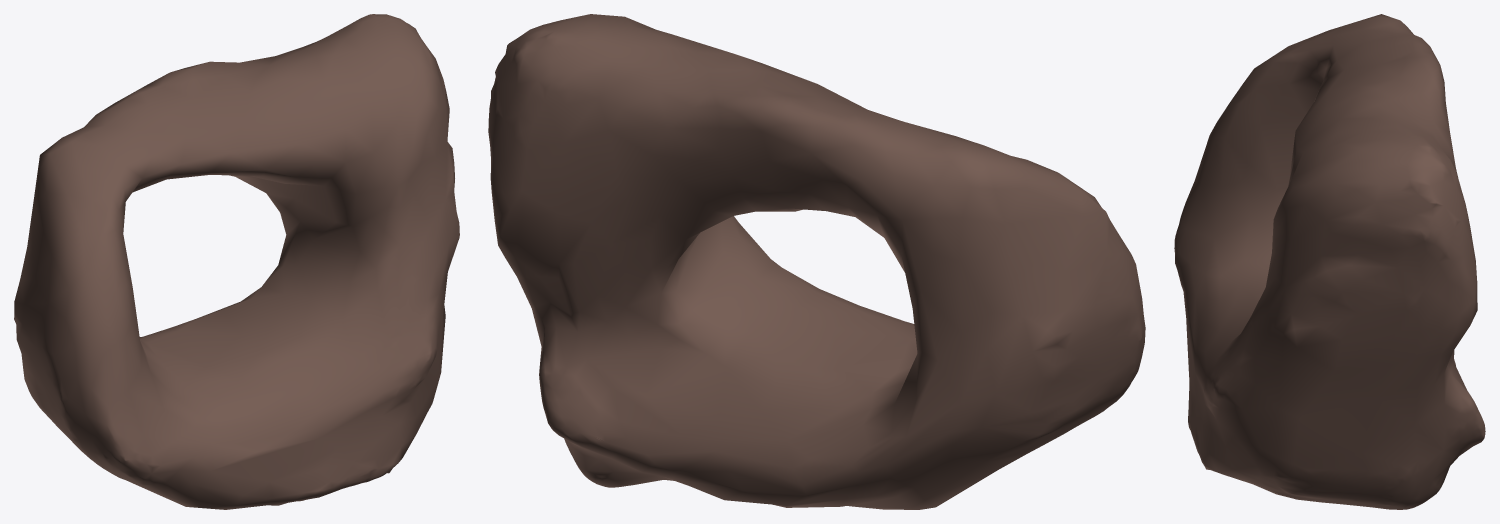
The model's file is SM_Asteroid_Large3.fbx.
3 renders of one model, left to right at view 1: azimuth 30°, elevation 25°; view 2: azimuth 150°, elevation 25°; view 3: azimuth 270°, elevation 25°, orthographic. The views are drawn at different scales.
Parts seen in each view (by area): view 1: Asteroid_F; view 2: Asteroid_F; view 3: Asteroid_F.
Part boxes in pixels (<box>): Asteroid_F: <box>14,14,459,509</box>; Asteroid_F: <box>488,14,1145,509</box>; Asteroid_F: <box>1174,14,1485,509</box>.
Size of the model in its own units: 185 by 146 by 107.
